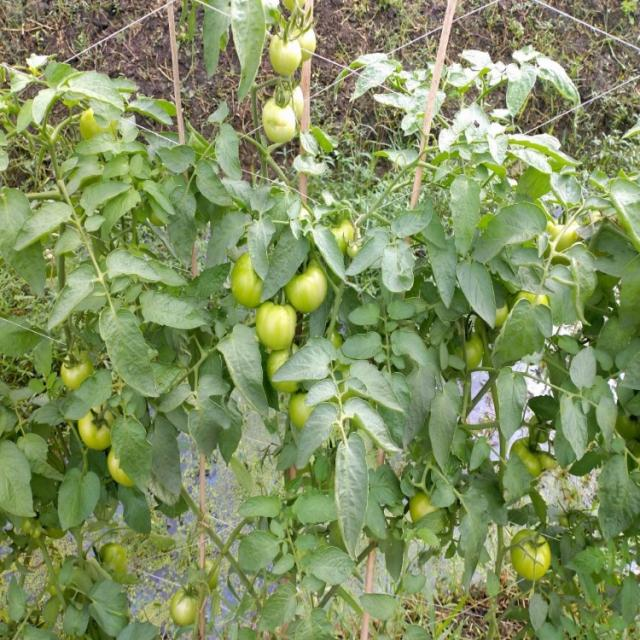tomato: (271, 12, 323, 76), (262, 84, 320, 138), (232, 246, 277, 301), (512, 525, 551, 586), (291, 260, 332, 317), (74, 405, 126, 442), (514, 433, 553, 482), (168, 589, 206, 634), (255, 306, 290, 354), (62, 346, 101, 387), (408, 495, 448, 532), (326, 221, 366, 257), (264, 357, 305, 392), (107, 449, 142, 488), (77, 110, 126, 137), (459, 334, 490, 374), (98, 539, 132, 574), (547, 217, 582, 246), (197, 556, 221, 588), (291, 397, 315, 427)
